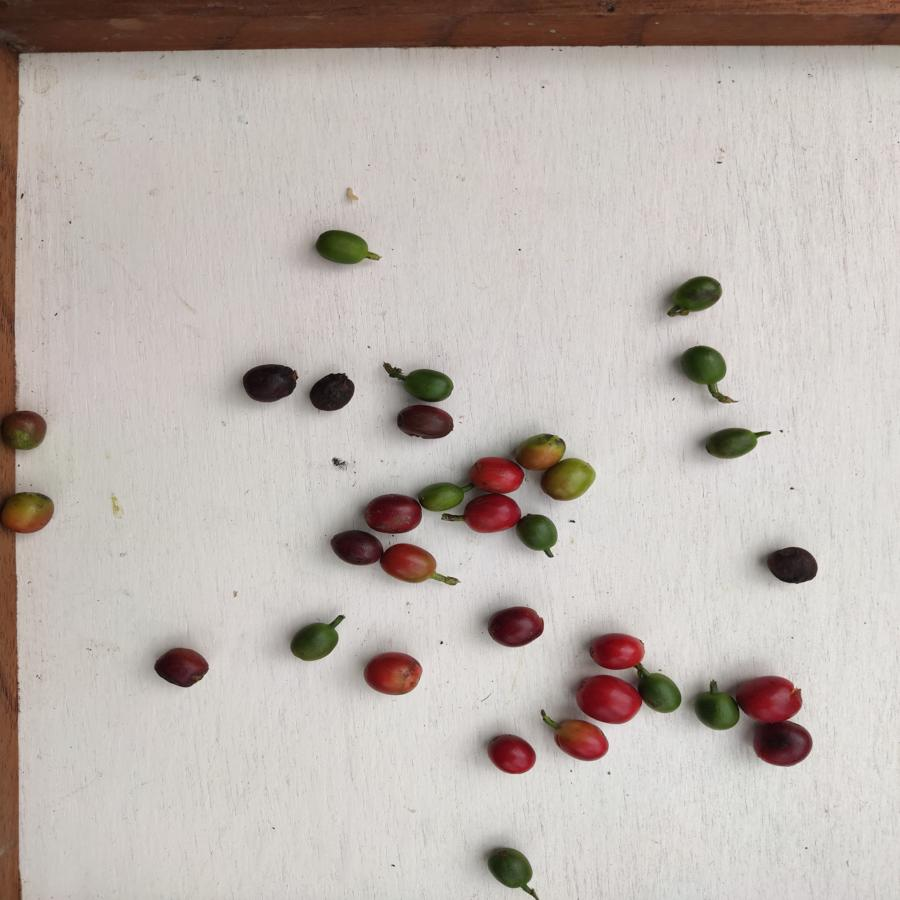Inmaduro: (312, 225, 378, 270), (677, 342, 734, 386), (703, 423, 762, 463), (288, 617, 340, 662), (669, 273, 724, 315), (486, 846, 535, 892), (396, 367, 457, 403), (695, 686, 741, 733), (518, 512, 564, 556), (641, 667, 684, 713), (419, 480, 463, 512)
Maduro: (571, 672, 642, 725), (361, 646, 426, 700), (739, 671, 806, 721), (552, 715, 612, 762), (483, 729, 541, 777), (462, 491, 520, 535), (467, 452, 525, 493), (585, 629, 644, 669)
Pinton: (1, 487, 55, 536), (379, 541, 442, 583), (540, 459, 599, 502), (514, 428, 569, 471), (2, 409, 50, 451)
Sobremaduro: (749, 720, 816, 767), (482, 603, 549, 649), (148, 646, 212, 688), (241, 361, 302, 403), (363, 493, 424, 534), (762, 545, 823, 586), (394, 403, 454, 442), (329, 527, 381, 569), (307, 371, 359, 412)
